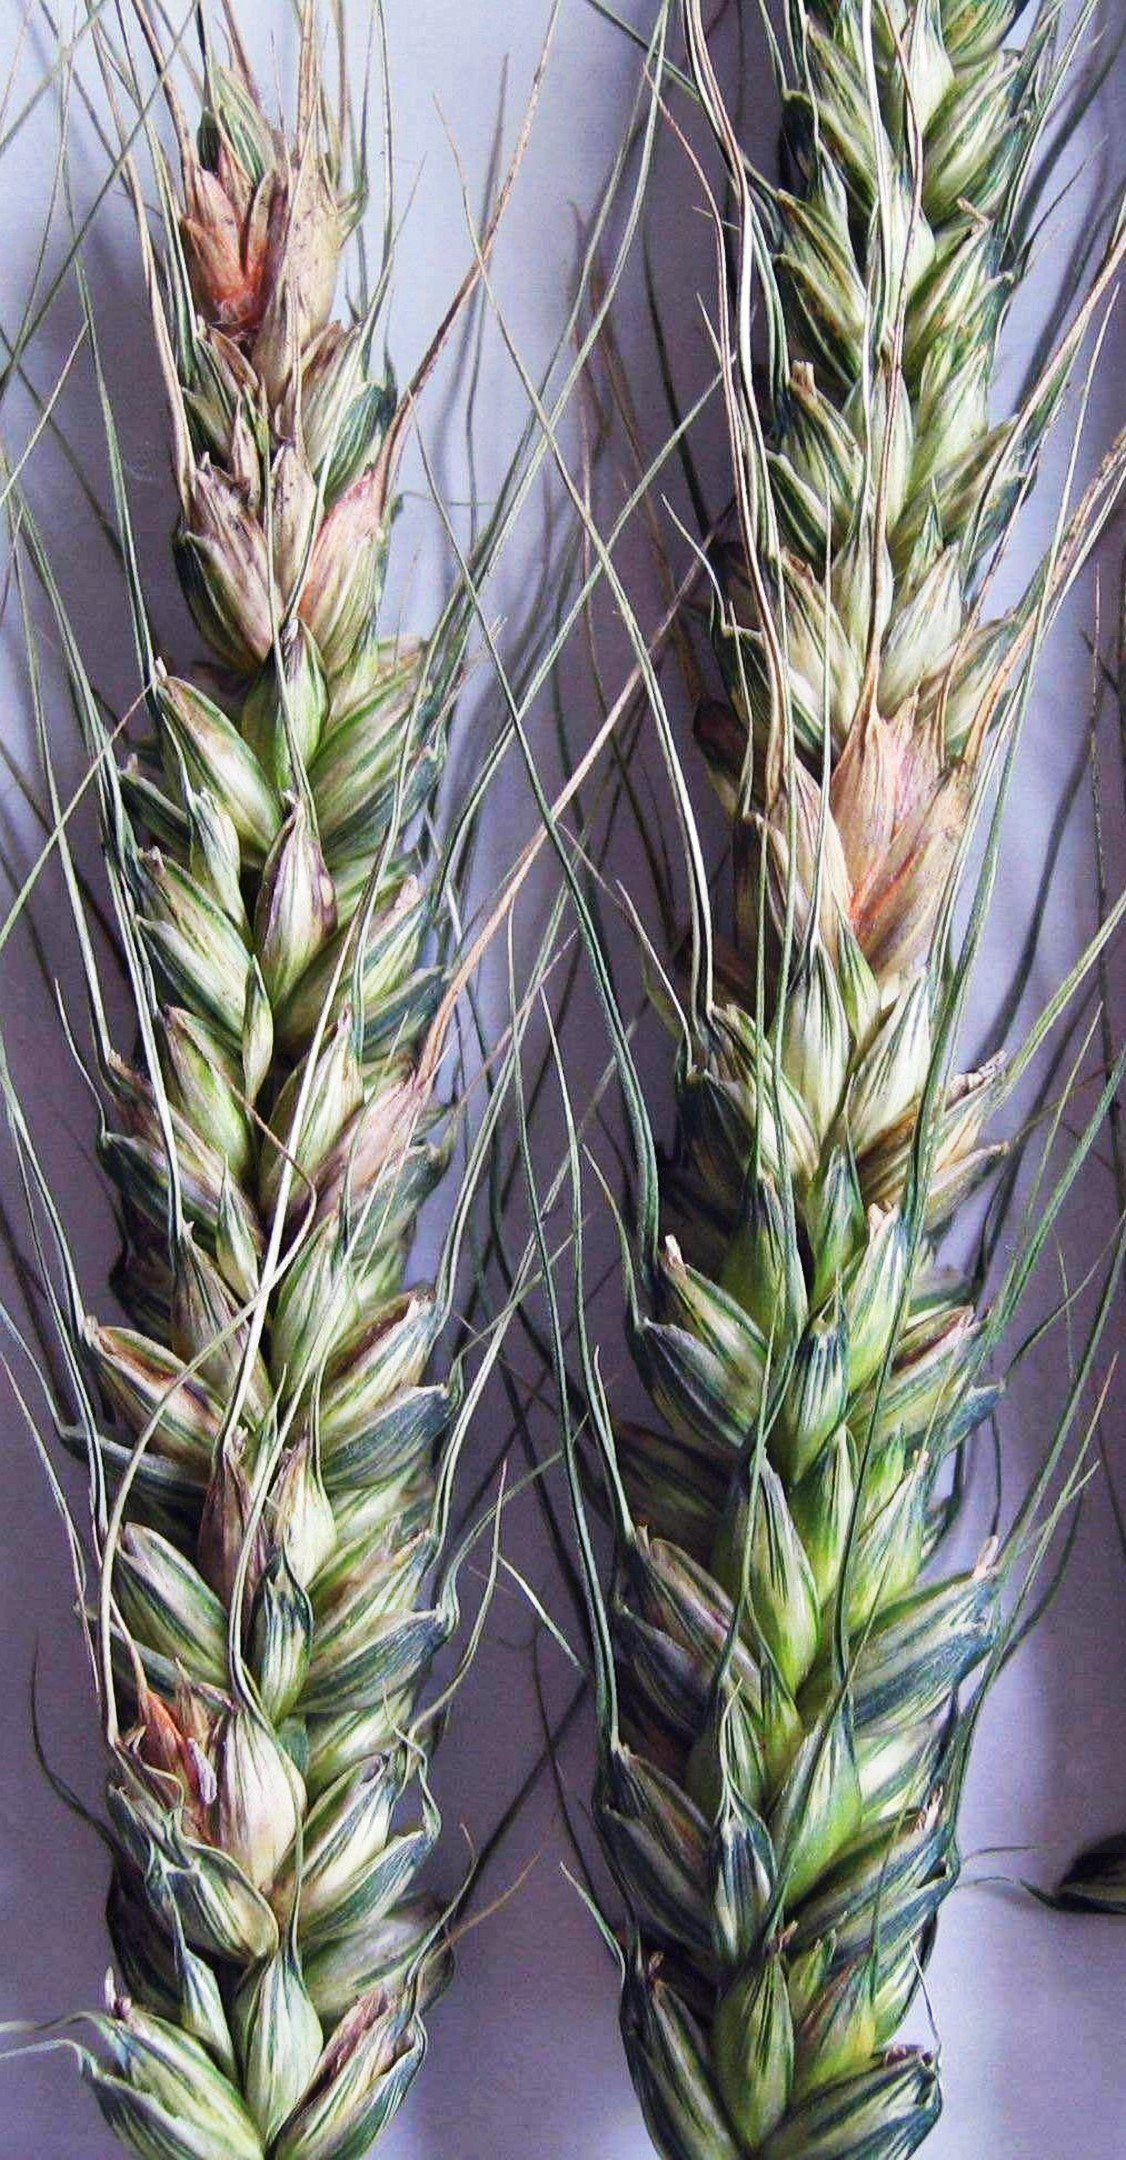Wheat scab: (583, 40, 999, 2160), (57, 110, 469, 2131)
